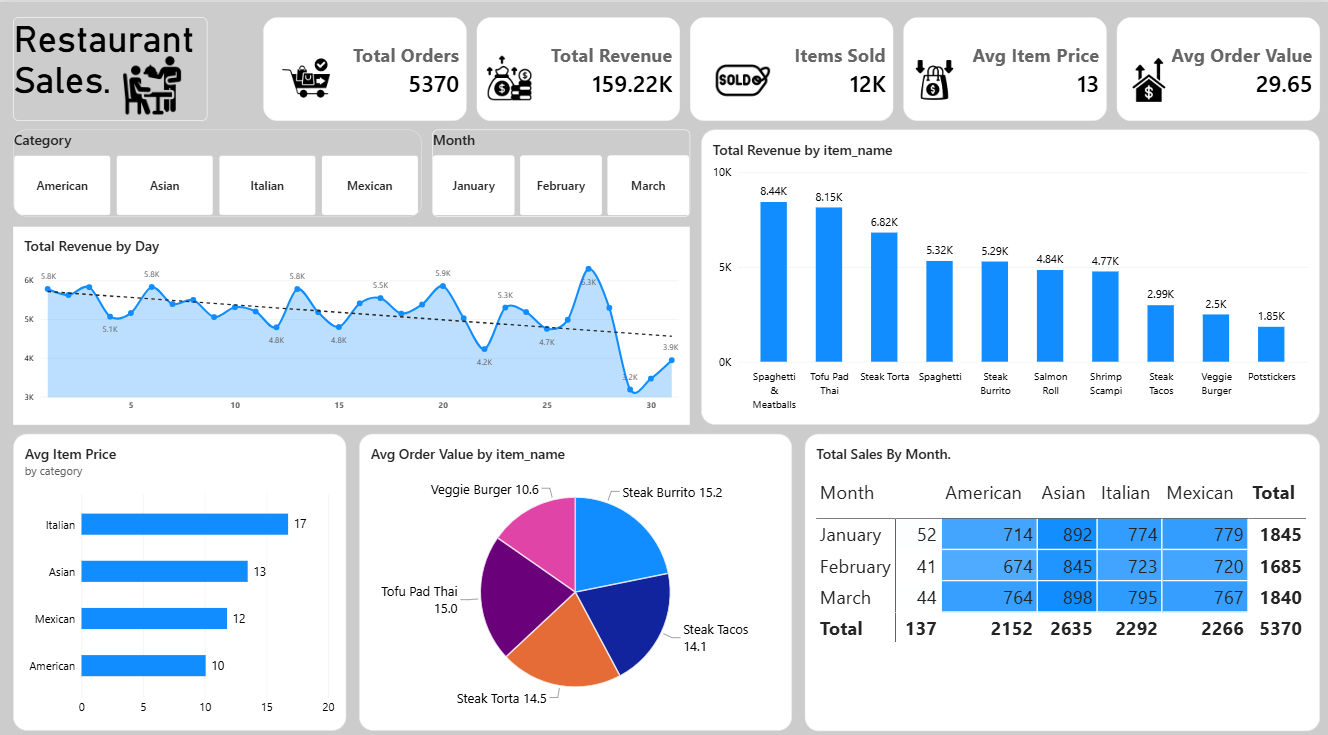

The page's visual inventory and layout, read from the dashboard file:
{"tool":"powerbi","page":{"name":"Page 1","canvas":[1920,1080],"ordinal":1},"visuals":[{"type":"cardVisual","fields":{"Data":["Measures1.Total Revenue"]},"box":[690,21.2,294,150],"z":0},{"type":"cardVisual","fields":{"Data":["Measures1.Menu Items"]},"box":[1306,21.2,294,150],"z":1000},{"type":"cardVisual","fields":{"Data":["Measures1.Total Orders"]},"box":[382,21.2,294,150],"z":2000},{"type":"cardVisual","fields":{"Data":["Measures1.Average Order Value"]},"box":[1614,21.2,294,150],"z":3000},{"type":"cardVisual","fields":{"Data":["Measures1.Items Sold"]},"box":[998,21.2,294,150],"z":4000},{"type":"textbox","box":[22,22,280,150],"z":5000},{"type":"lineChart","fields":{"Y":["Measures1.Total Revenue"],"Category":["order_details.order_date.Variation.Date Hierarchy.Day"]},"box":[21.9,324.4,976.7,286.1],"z":6000},{"type":"advancedSlicerVisual","fields":{"Values":["order_details.order_date.Variation.Date Hierarchy.Month"]},"box":[626,184,372,126],"z":7000},{"type":"advancedSlicerVisual","title":"Category","fields":{"Values":["menu_items.category"]},"box":[21.9,184.1,590.4,125.7],"z":8000},{"type":"clusteredBarChart","fields":{"Y":["Measures1.Average Item Price"],"Category":["menu_items.category"]},"box":[21.9,623.2,481.1,428.2],"z":9000},{"type":"clusteredColumnChart","fields":{"Category":["menu_items.item_name"],"Y":["Measures1.Total Revenue"]},"box":[1015,184.1,892.9,426.4],"z":10000},{"type":"pieChart","fields":{"Series":["menu_items.item_name"],"Y":["Measures1.Average Order Value"]},"box":[520.8,623.2,625,428.2],"z":11000},{"type":"pivotTable","title":"Total Sales By Month.","fields":{"Rows":["order_details.order_date.Variation.Date Hierarchy.Month"],"Columns":["menu_items.category"],"Values":["Measures1.Total Orders"]},"box":[1163.6,622.5,743.5,428.9],"z":12000},{"type":"image","box":[400,72,88,74],"z":13000},{"type":"image","box":[690,72,94,74],"z":14000},{"type":"image","box":[1015,71.1,120.3,83.8],"z":15000},{"type":"image","box":[1306,78,90,68],"z":16000},{"type":"image","box":[1630,78,64,68],"z":17000},{"type":"image","box":[162.2,78.4,120.3,83.8],"z":18000}]}

Visuals, with their boxes in screenshot pixels (x1, y1, x2, y2), scaled from the page's 1920x1080 canvas onto the 1328x735 screenshot:
cardVisual - Measures1.Total Revenue: bbox=(477, 14, 681, 117)
cardVisual - Measures1.Menu Items: bbox=(903, 14, 1107, 117)
cardVisual - Measures1.Total Orders: bbox=(264, 14, 468, 117)
cardVisual - Measures1.Average Order Value: bbox=(1116, 14, 1320, 117)
cardVisual - Measures1.Items Sold: bbox=(690, 14, 894, 117)
textbox: bbox=(15, 15, 209, 117)
lineChart - Measures1.Total Revenue x order_details.order_date.Variation.Date Hierarchy.Day: bbox=(15, 221, 691, 415)
advancedSlicerVisual - order_details.order_date.Variation.Date Hierarchy.Month: bbox=(433, 125, 690, 211)
"Category" advancedSlicerVisual: bbox=(15, 125, 424, 211)
clusteredBarChart - Measures1.Average Item Price x menu_items.category: bbox=(15, 424, 348, 716)
clusteredColumnChart - menu_items.item_name x Measures1.Total Revenue: bbox=(702, 125, 1320, 415)
pieChart - menu_items.item_name x Measures1.Average Order Value: bbox=(360, 424, 793, 716)
"Total Sales By Month." pivotTable: bbox=(805, 424, 1319, 716)
image: bbox=(277, 49, 338, 99)
image: bbox=(477, 49, 542, 99)
image: bbox=(702, 48, 785, 105)
image: bbox=(903, 53, 966, 99)
image: bbox=(1127, 53, 1172, 99)
image: bbox=(112, 53, 195, 110)
